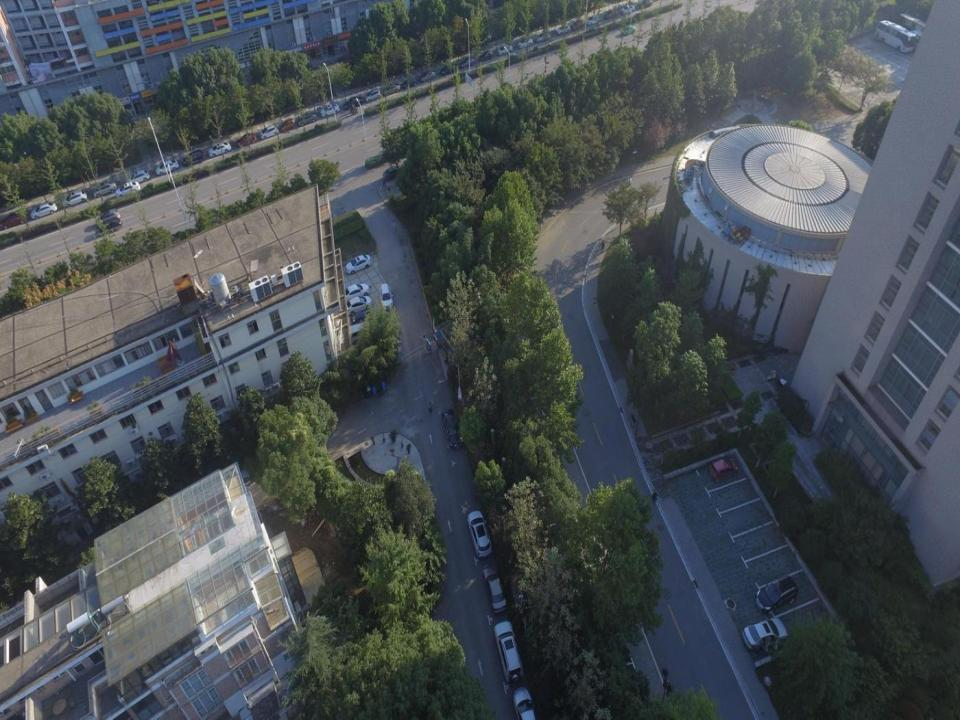bus: (874, 17, 916, 53), (910, 28, 945, 61), (900, 11, 933, 45)
car: (493, 620, 523, 682), (754, 573, 798, 611), (741, 616, 789, 650), (480, 566, 507, 613), (467, 509, 492, 559), (442, 408, 464, 450), (708, 457, 738, 484), (340, 312, 370, 339), (511, 686, 535, 719), (344, 295, 373, 316), (95, 207, 121, 230), (345, 254, 372, 274), (377, 280, 394, 310), (341, 282, 370, 299), (30, 202, 58, 219), (62, 189, 87, 208), (0, 211, 26, 229), (154, 158, 178, 176), (125, 169, 149, 186), (115, 182, 141, 197), (92, 181, 116, 197), (207, 141, 231, 157), (382, 164, 403, 181), (183, 149, 204, 165), (297, 112, 317, 128), (320, 102, 340, 118), (236, 133, 257, 148), (363, 88, 382, 103), (343, 96, 363, 110), (260, 124, 278, 139), (382, 83, 401, 95), (280, 118, 296, 132), (460, 56, 477, 69), (497, 44, 513, 57), (620, 23, 636, 36), (420, 70, 436, 82), (517, 36, 533, 48), (402, 78, 417, 90), (440, 65, 458, 75), (479, 50, 494, 62), (534, 32, 550, 43), (556, 24, 570, 36), (586, 14, 600, 26), (604, 9, 620, 19), (572, 19, 584, 32), (638, 0, 653, 10), (621, 4, 635, 14)
